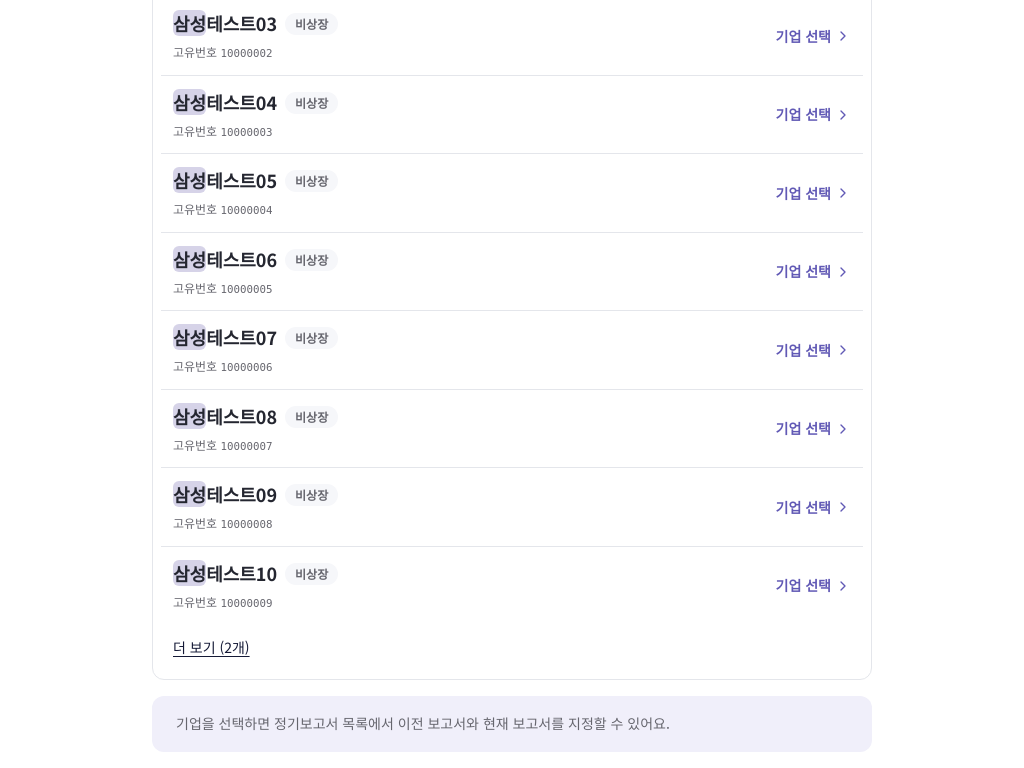
Test: 결과가 많을 때 접기 › 결과가 10곳보다 많으면 처음 10곳만 보이고 더 보기로 펼치고 접기로 다시 접는다
This screenshot has width=1024, height=768.
(page scrolled)
Click the button "더 보기 (2개)": click(211, 648) x1=173 y1=636 x2=250 y2=660
(page scrolled)
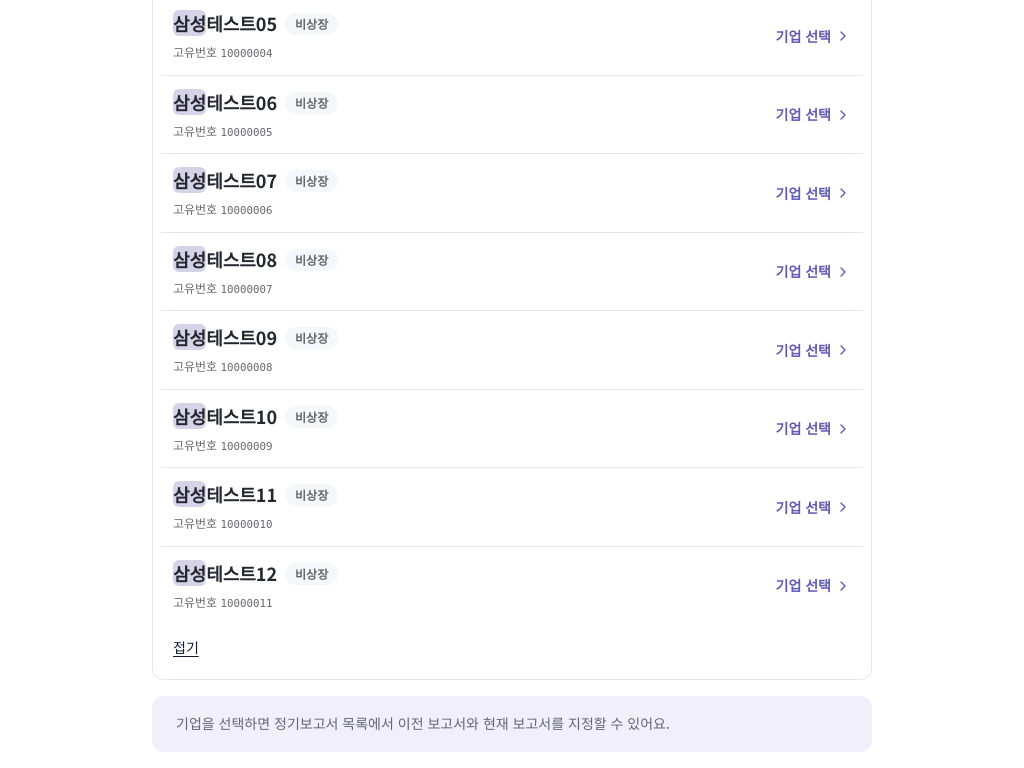
expect the number of links is 12: met
expect the button "접기" is expanded: met
Click the button "접기": click(186, 648) x1=173 y1=636 x2=199 y2=660
(page scrolled)
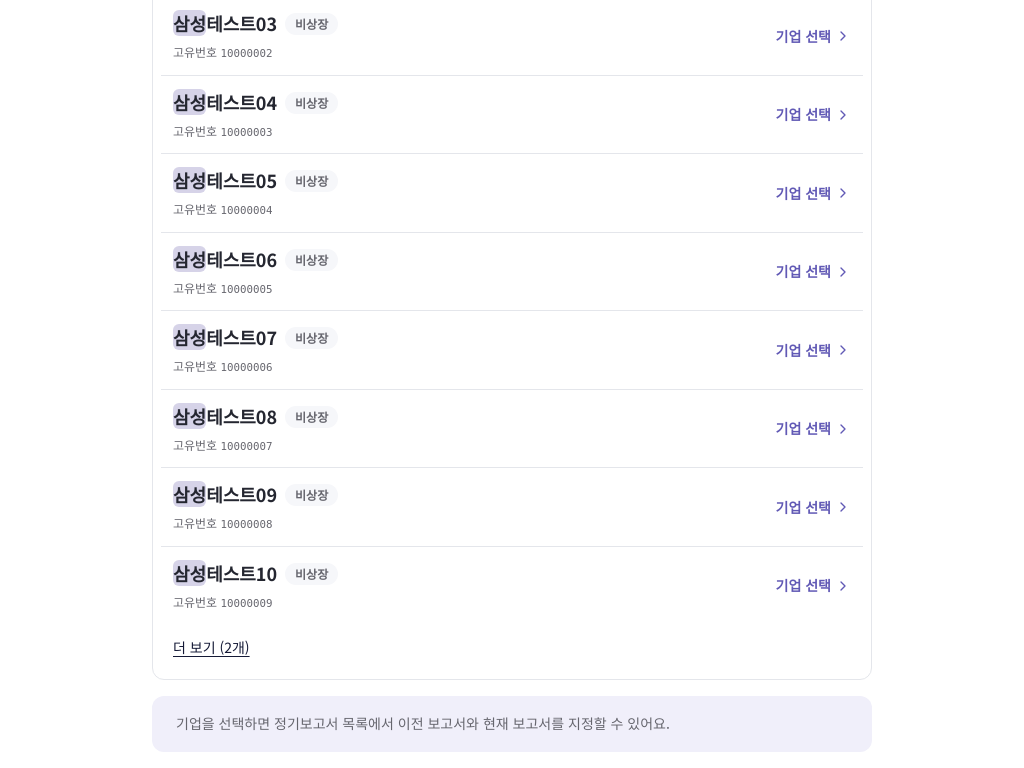
expect the number of links is 10: met
